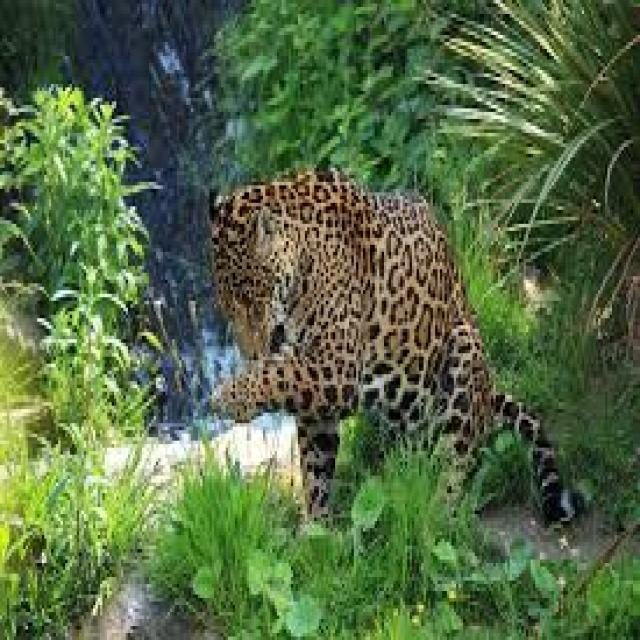Jaguar: (205, 164, 586, 528)
